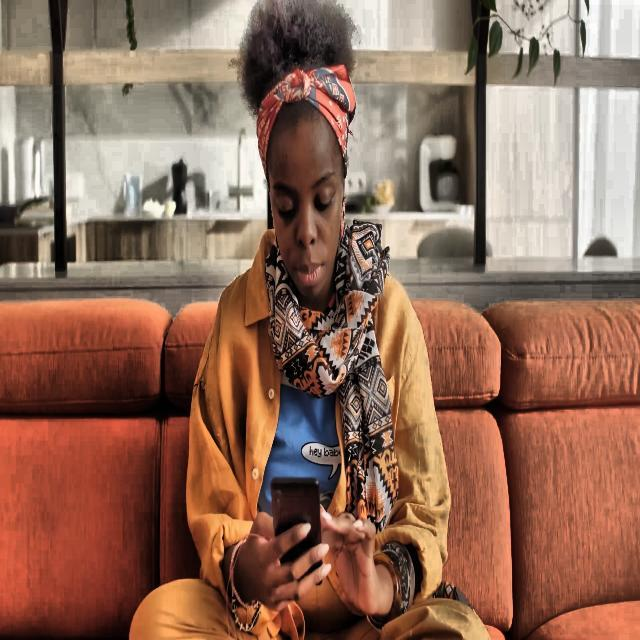Phone: (270, 474, 324, 590)
